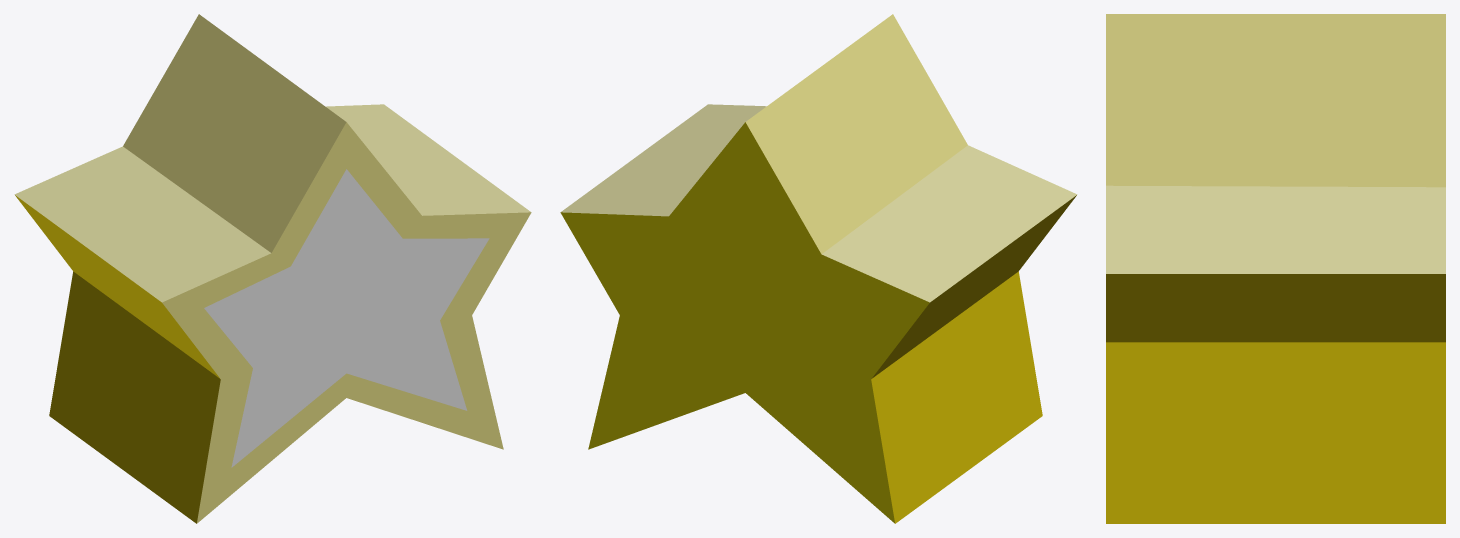
File: HolidayStarProgressbarSnowflake.glb
The picture shows the model from 3 angles, left to right: view 1: azimuth 30°, elevation 25°; view 2: azimuth 150°, elevation 25°; view 3: azimuth 270°, elevation 25°; orthographic projection. The views are drawn at different scales.
Parts seen in each view (by area): view 1: HolidayStarProgressbarSnowflake; view 2: HolidayStarProgressbarSnowflake; view 3: HolidayStarProgressbarSnowflake.
Boxes of the visible parts, left/top/right/bottom form: HolidayStarProgressbarSnowflake: left=14, top=14, right=531, bottom=523; HolidayStarProgressbarSnowflake: left=560, top=14, right=1077, bottom=523; HolidayStarProgressbarSnowflake: left=1106, top=14, right=1445, bottom=523.
Bounding box in the file's own units: 0.887 × 0.8394 × 0.6135.
